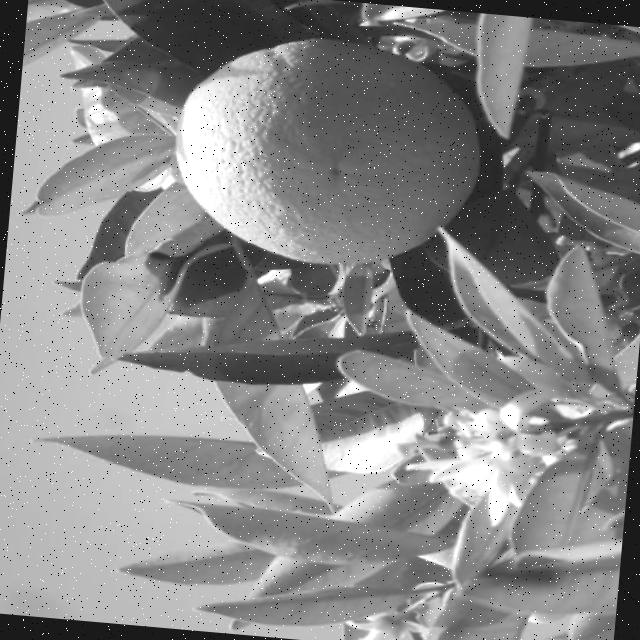Ripe: (160, 23, 497, 282)
